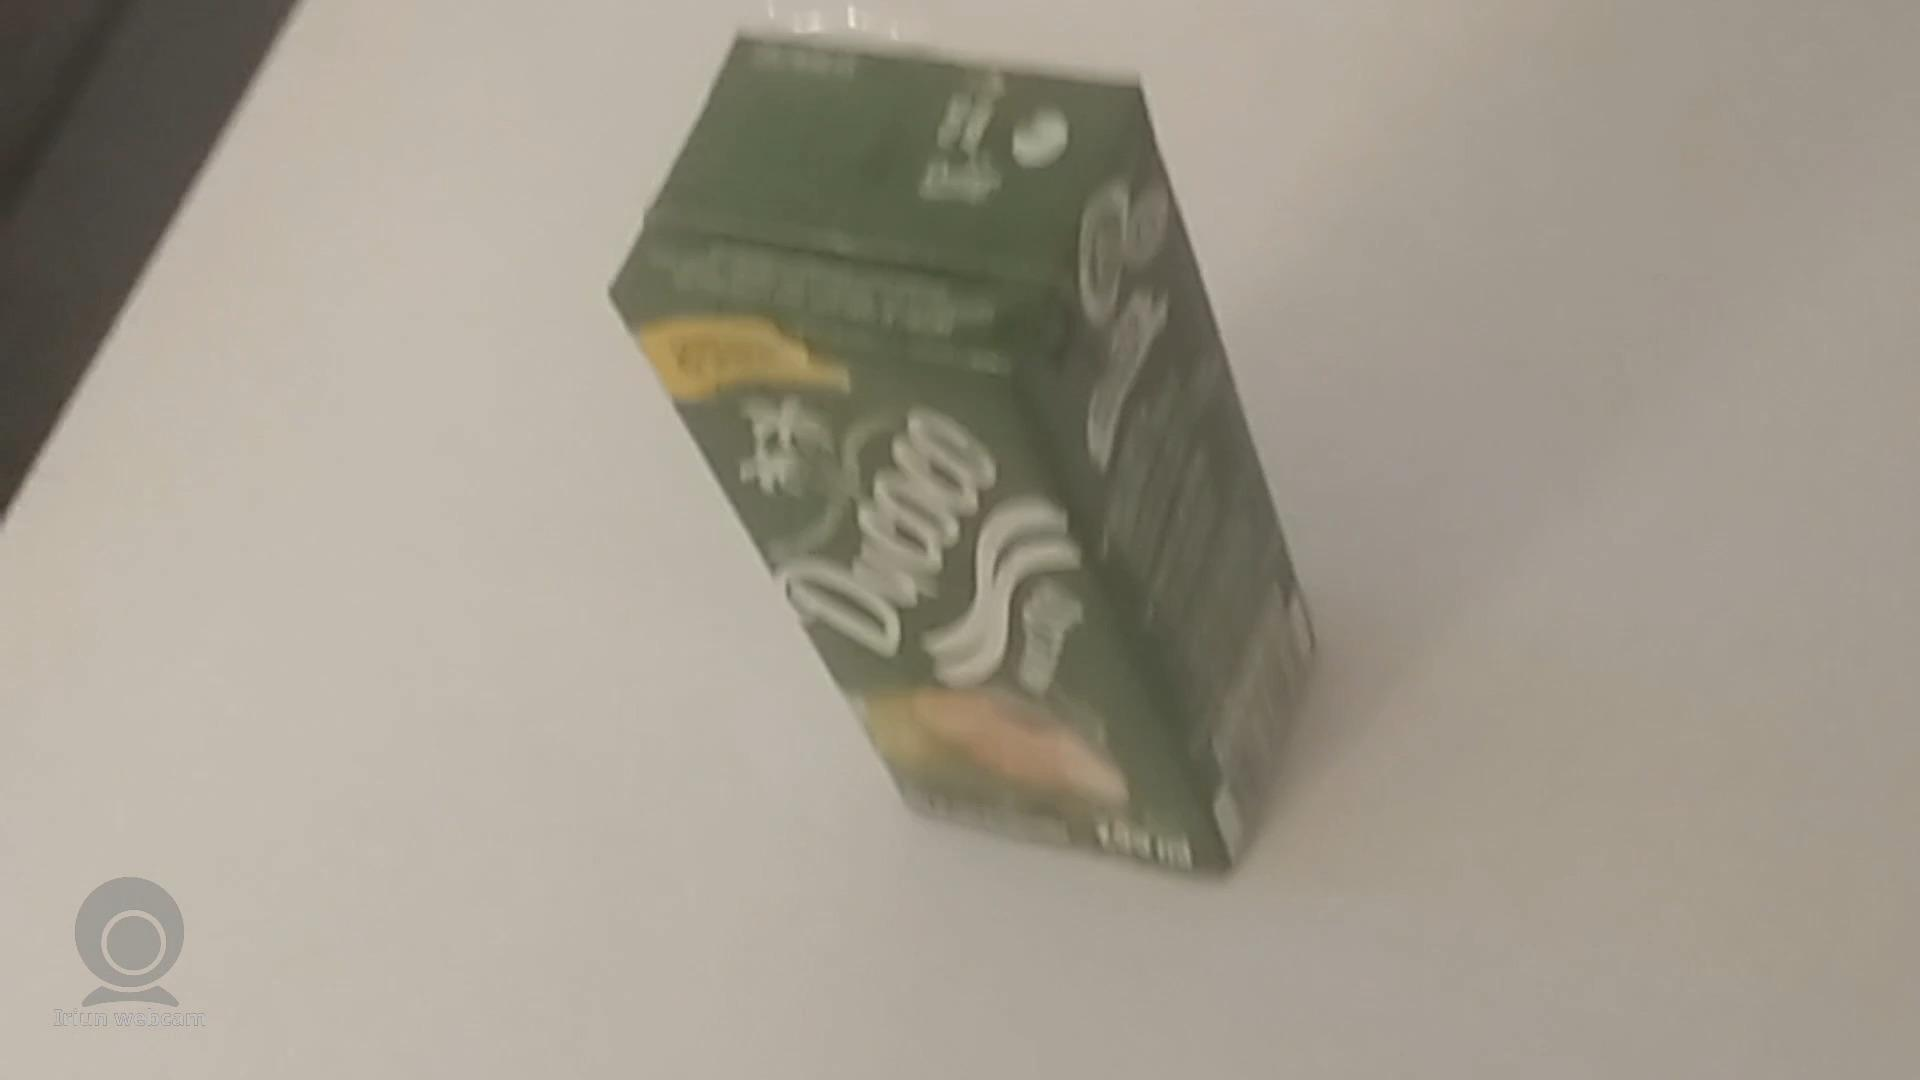coco: (607, 22, 1303, 894)
